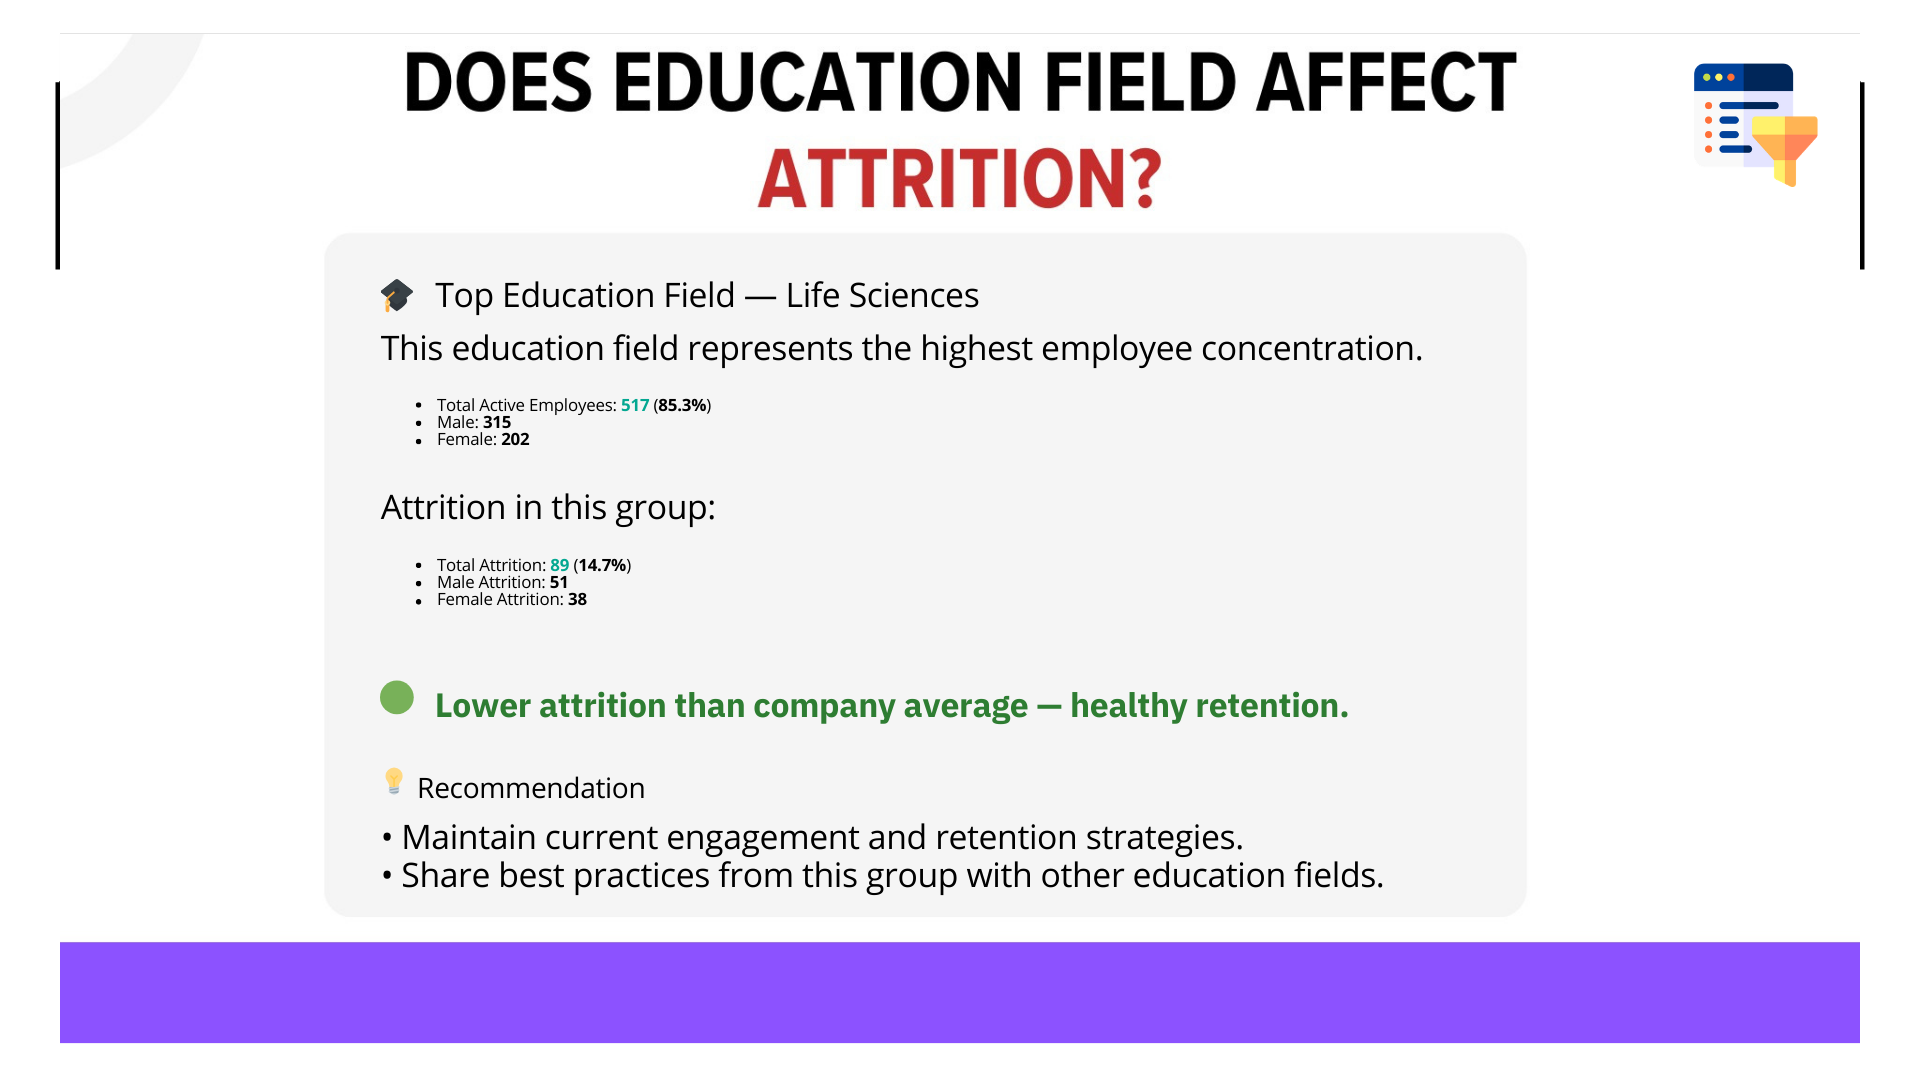

This screenshot's page, from the dashboard's own definition file:
{"tool":"powerbi","page":{"name":"Education Field","canvas":[1280,720],"ordinal":6},"visuals":[{"type":"htmlContent443BE3AD55E043BF878BED274D3A6865","fields":{"content":["Measure.TTL Employees Top 1 EducationField (HTML Story)"]},"box":[209.6,141.7,821.2,484.3],"z":0},{"type":"image","box":[1156.6,10.1,98.3,109.9],"z":13000}]}

Visuals, with their boxes in screenshot pixels (x1, y1, x2, y2), scaled from the page's 1280x720 canvas onto the 1920x1080 screenshot:
htmlContent443BE3AD55E043BF878BED274D3A6865 - Measure.TTL Employees Top 1 EducationField (HTML Story): <region>314, 213, 1546, 939</region>
image: <region>1735, 15, 1882, 180</region>
